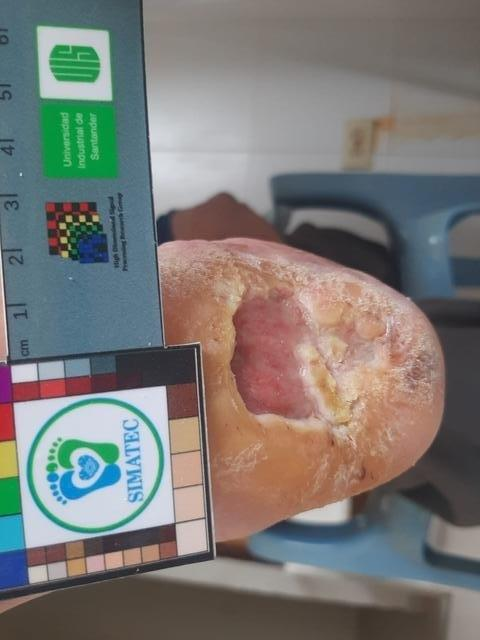wound: (228, 263, 387, 451)
